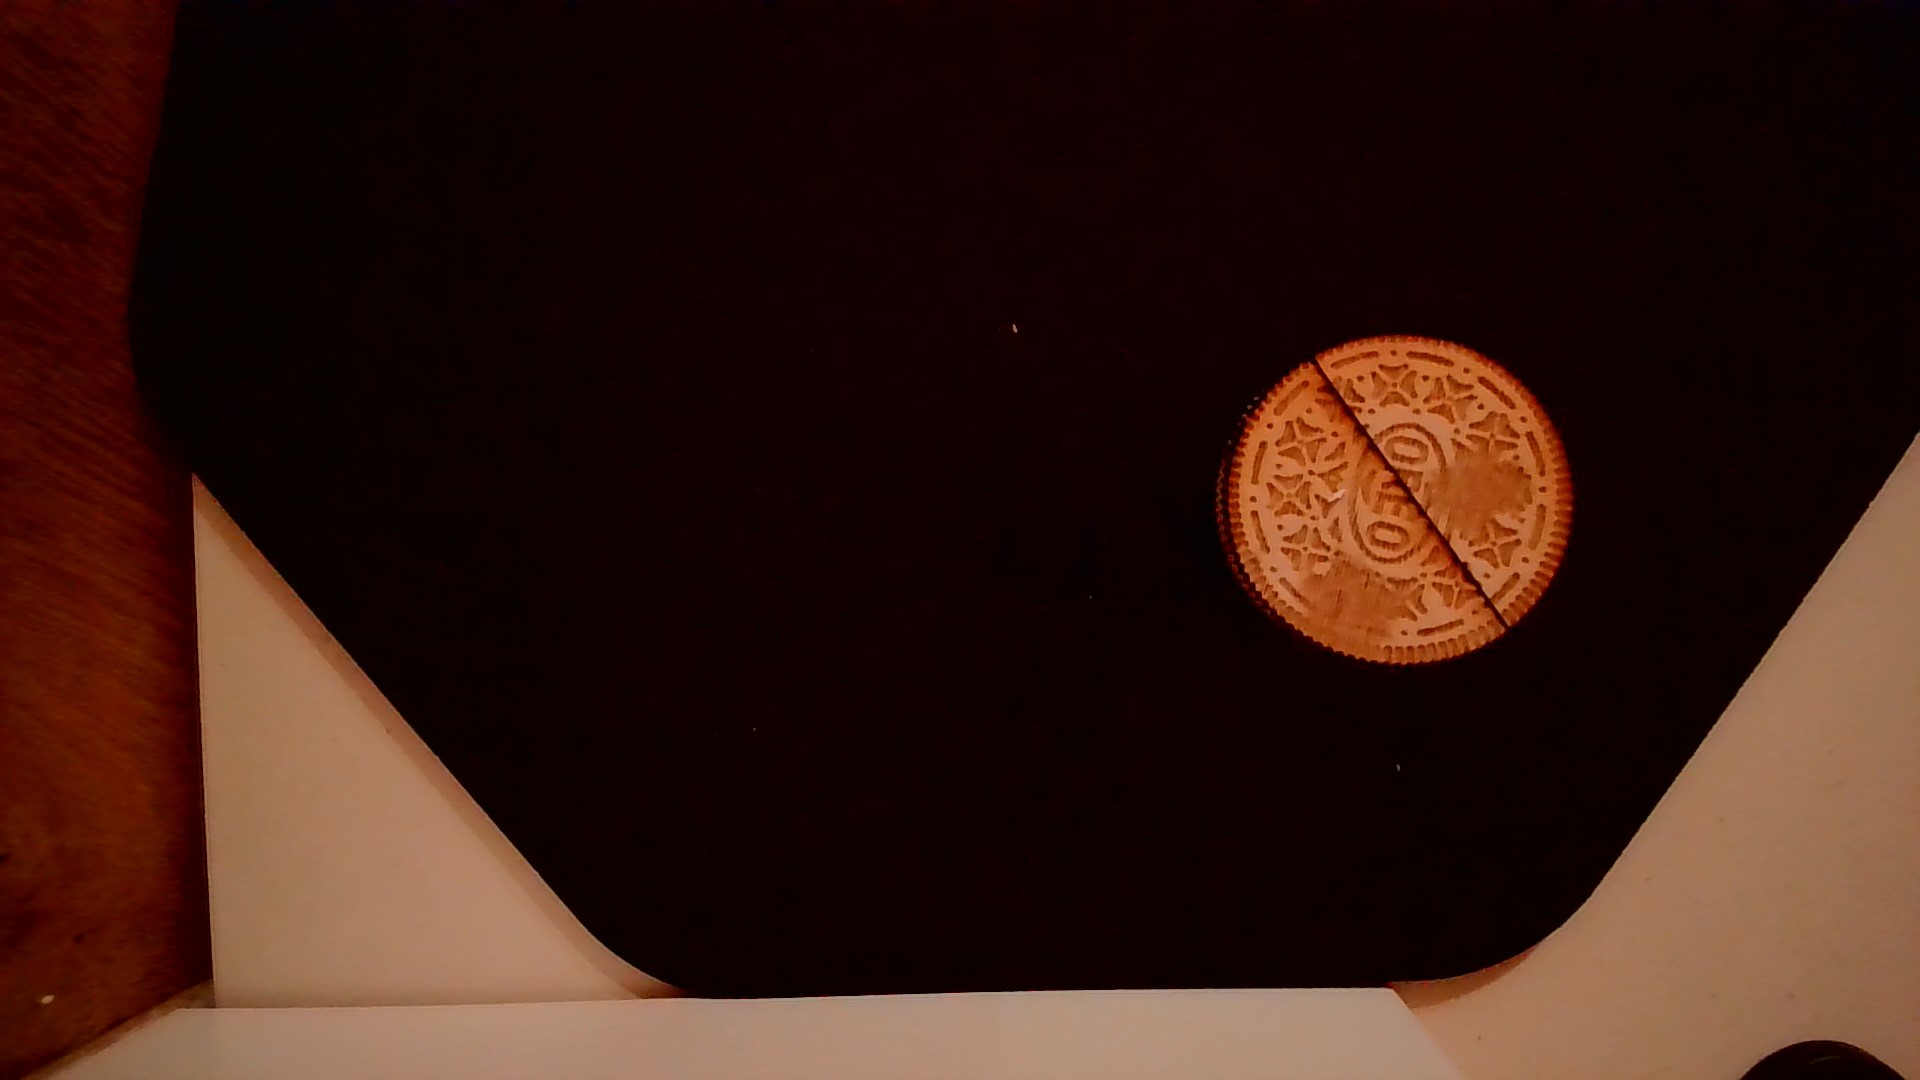Effacé: (1304, 553, 1406, 657), (1439, 444, 1534, 527)
Fissure: (1308, 353, 1516, 640)
Oréo: (1207, 328, 1582, 673)
